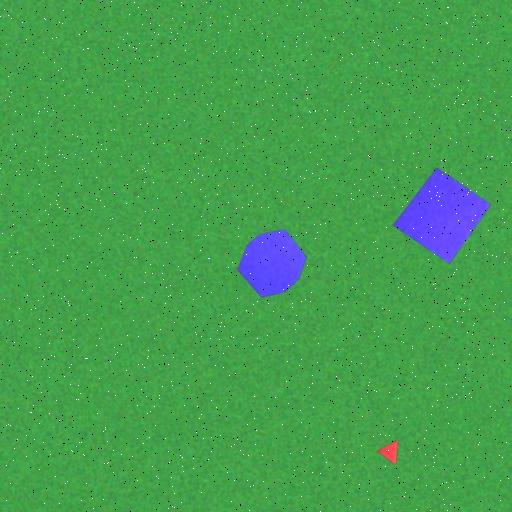BLUE_SQUARE: (392, 167, 492, 264)
